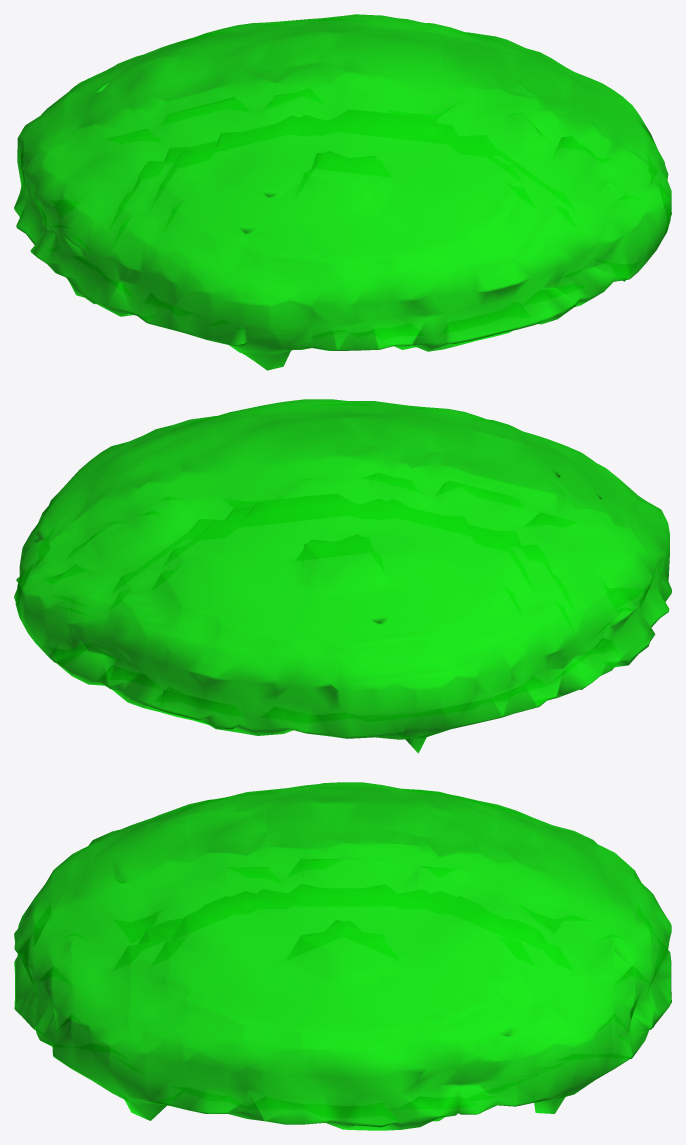
Rendered from silme.fbx.
3 views of the same model, one above another, from view 1: azimuth 30°, elevation 25°; view 2: azimuth 150°, elevation 25°; view 3: azimuth 270°, elevation 25° (orthographic). The views are drawn at different scales.
Visible parts, largest first — view 1: Cube; view 2: Cube; view 3: Cube.
Boxes of the visible parts, x1,y1,x2,y2 form: Cube: [14, 14, 671, 370]; Cube: [14, 399, 671, 753]; Cube: [14, 782, 671, 1130].
Bounding box in the file's own units: 1.03 × 0.329 × 1.03.
